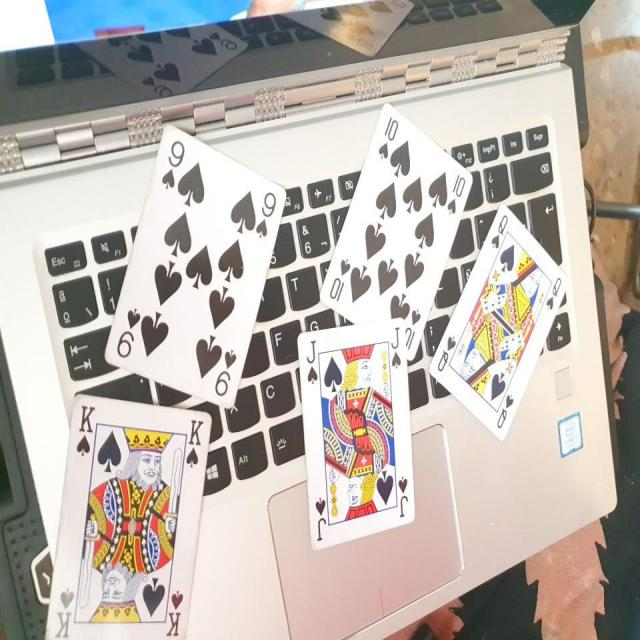10 Spades: (317, 96, 476, 372)
9 Spades: (99, 121, 287, 420)
J Spades: (295, 326, 416, 548)
K Spades: (37, 391, 218, 640)
Q Spades: (428, 205, 569, 442)
